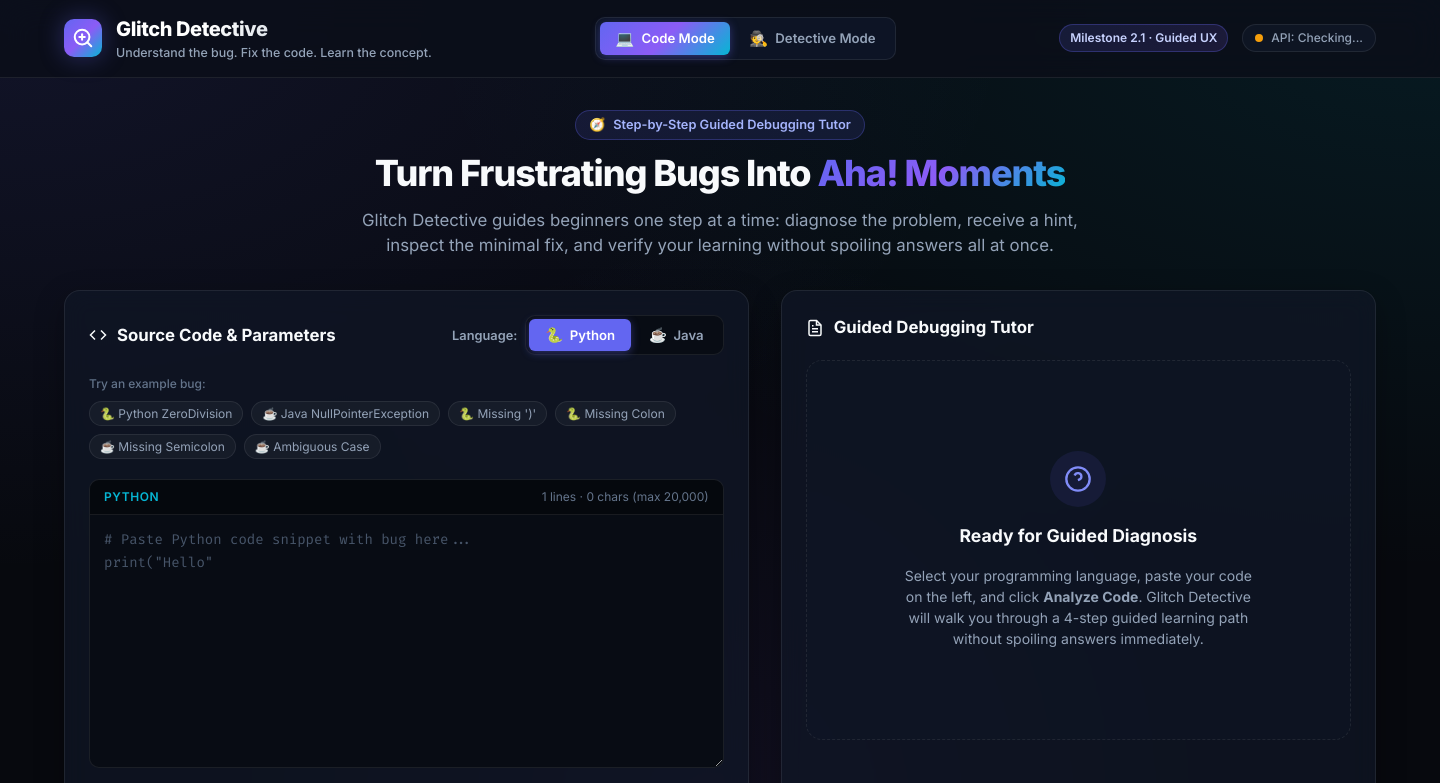
Test case: Phase 3: Detective Mode UX & Challenge Engine Integration › synchronizes manual case dropdown selection with subsequent Next Case navigation
Step 1. Click the tab "🕵️ Detective Mode" → (812, 38), box [734,22,891,55]
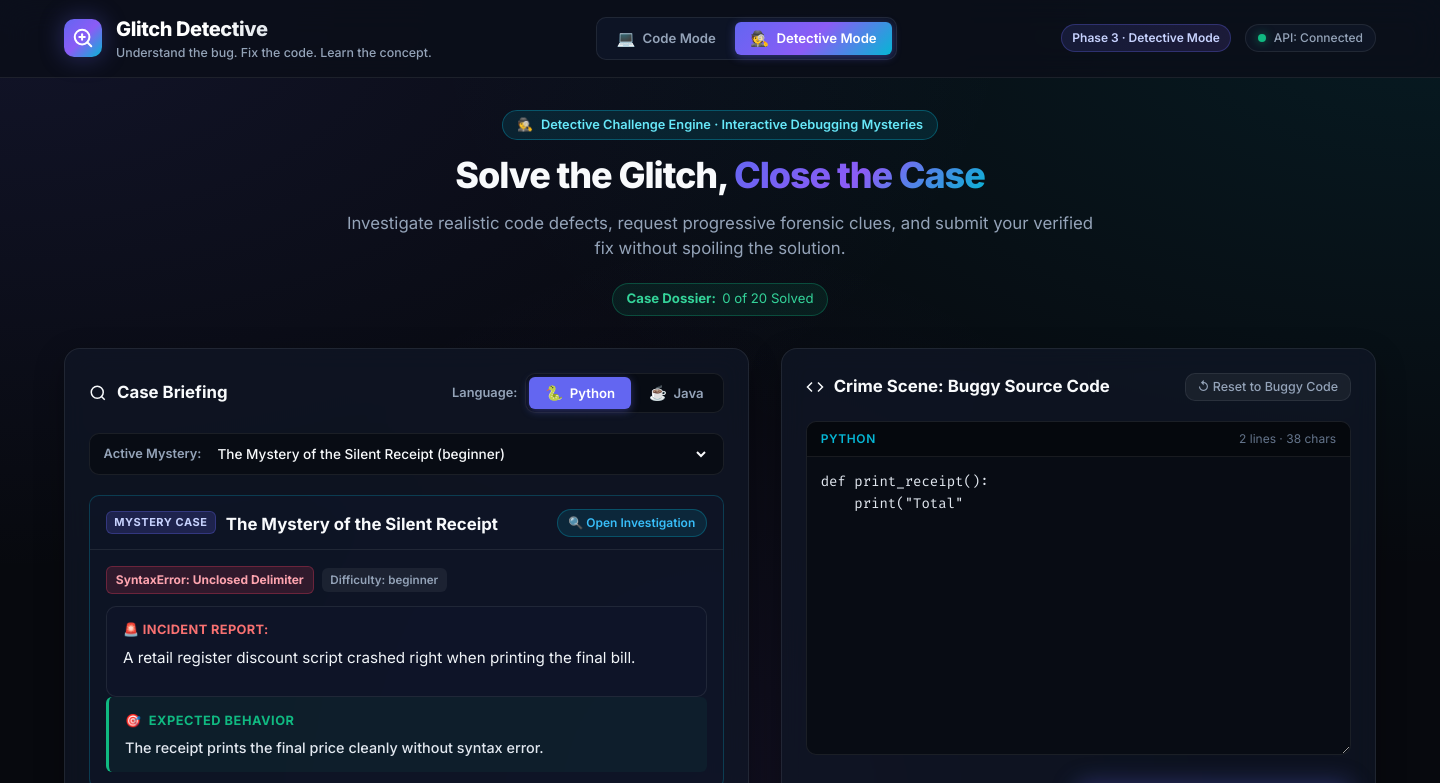
Result: the heading "The Mystery of the Silent Receipt" is shown at [226,512,498,537]
Note: Manually select second Python mystery ('py-traffic-missing-colon') from dropdown
Step 2. Select "The Mystery of the Highway Gate (beginner)" in the dropdown named "Select Active Mystery Case" → (461, 454), box [213,445,709,463]
(page scrolled)
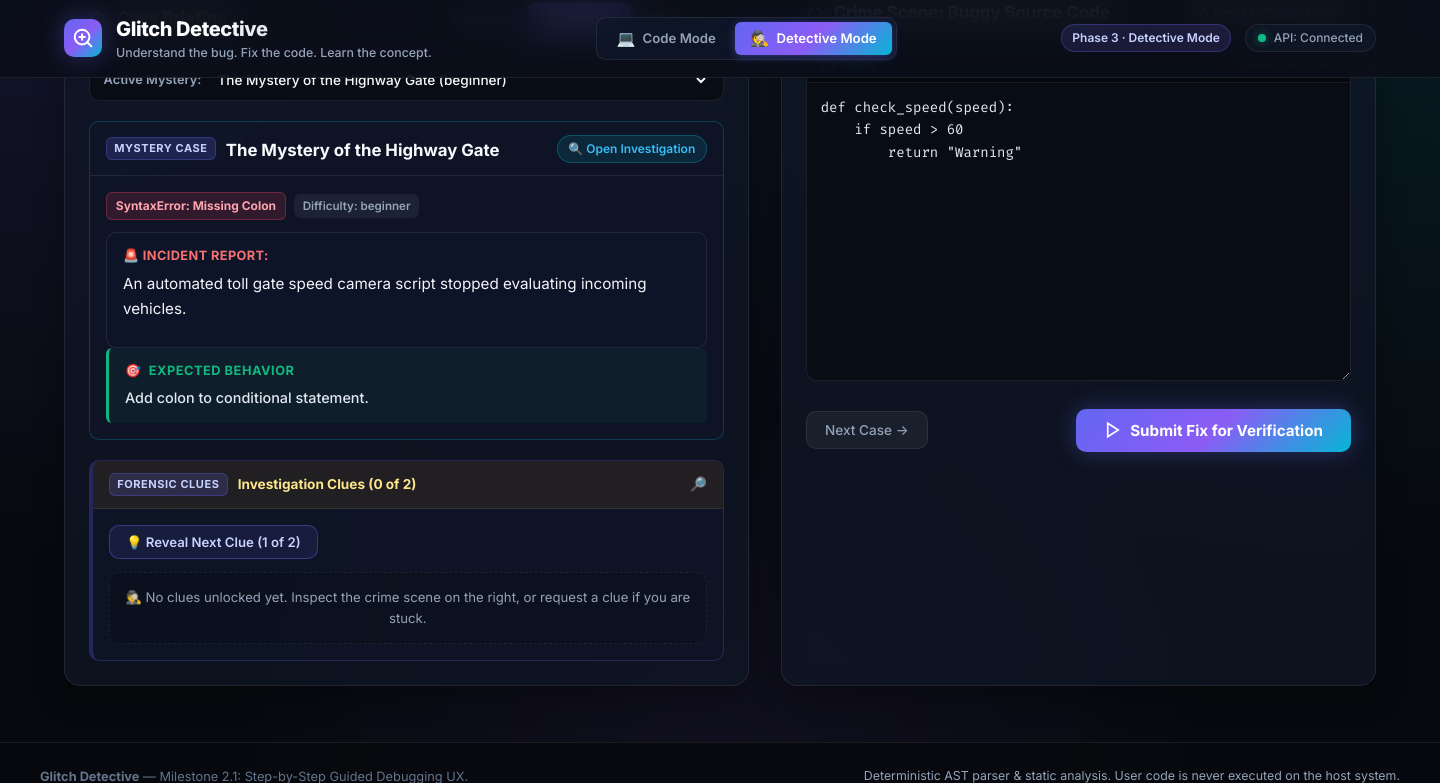
Result: the heading "The Mystery of the Highway Gate" is shown at [226,138,500,163]
Note: Press Next Case - should advance to third mystery ('py-roster-indentation', seed index 2)
Step 3. Click the button "Next Case →" → (867, 430), box [806,411,928,450]
(page scrolled)
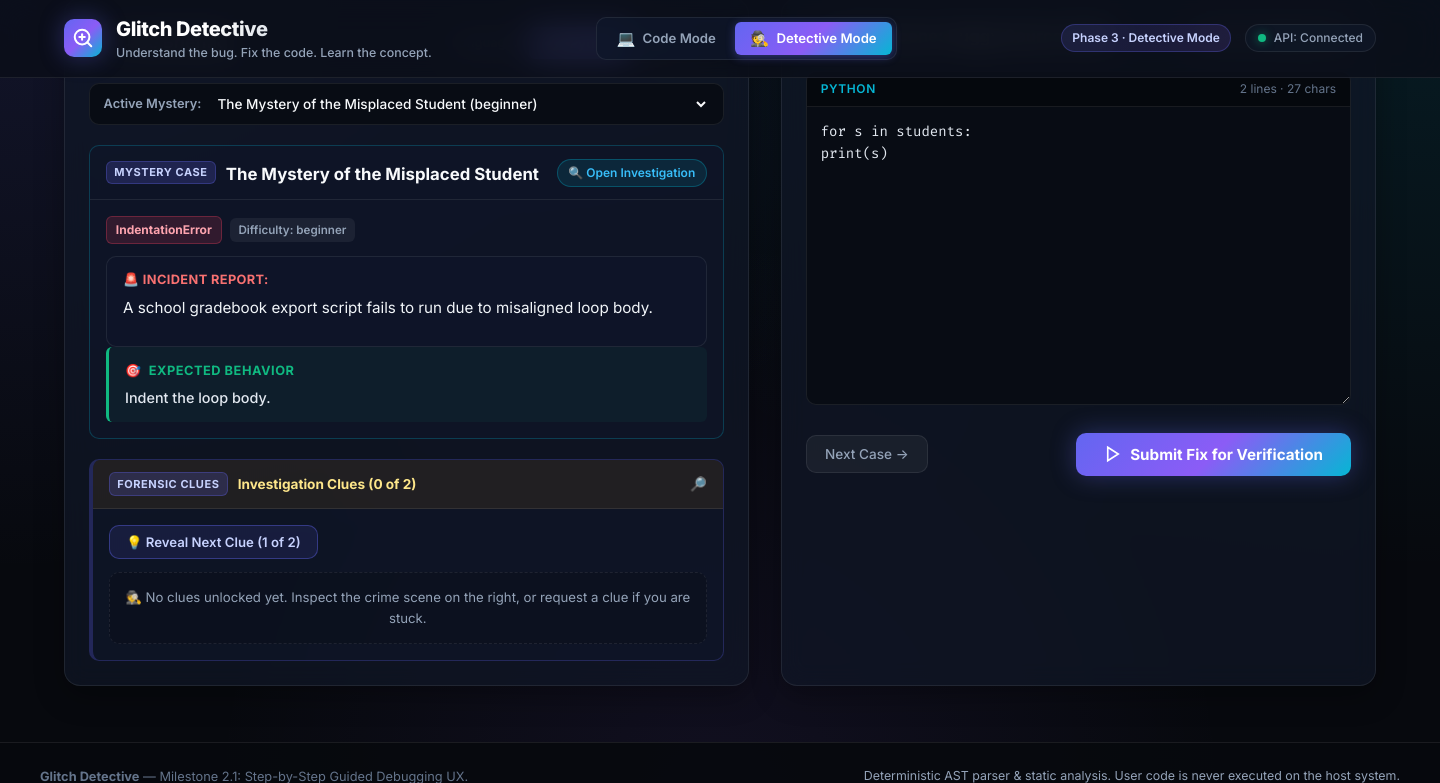
Result: the heading "The Mystery of the Misplaced Student" is shown at [226,162,539,187]
